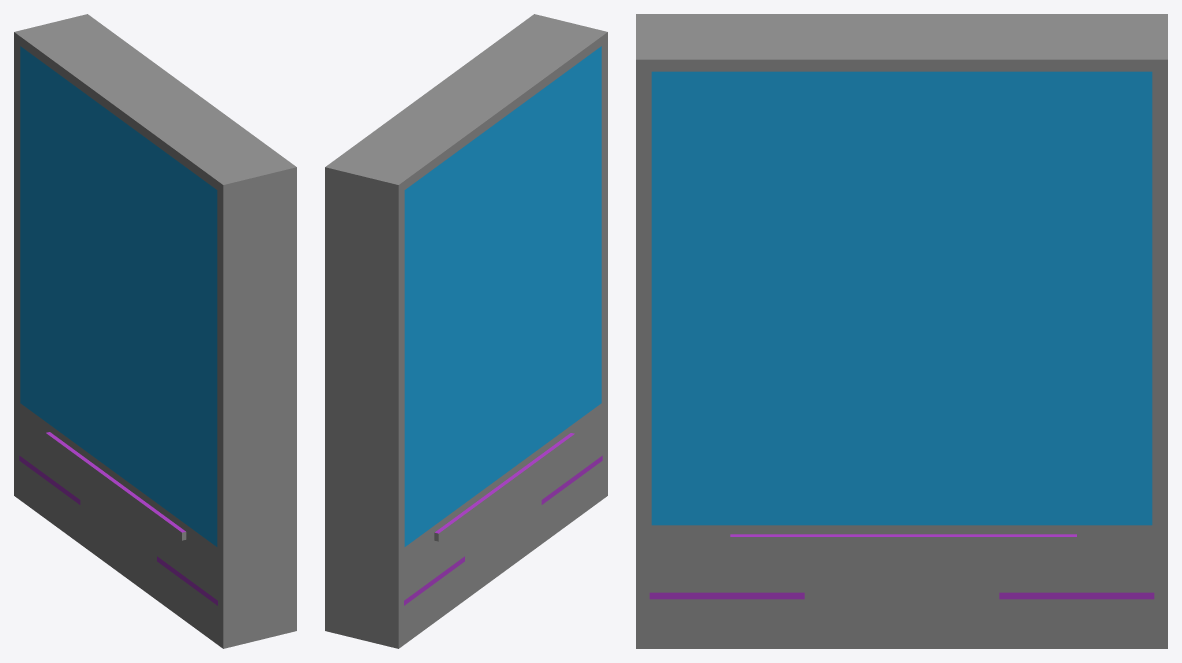
File: advertstand.fbx
3 renders of one model, left to right at view 1: azimuth 30°, elevation 25°; view 2: azimuth 150°, elevation 25°; view 3: azimuth 270°, elevation 25°, orthographic. The views are drawn at different scales.
Parts seen in each view (by area): view 1: advertstand; view 2: advertstand; view 3: advertstand.
Part boxes in pixels (box(x1,y1,x2,y2)): advertstand: box(14, 14, 296, 648); advertstand: box(325, 14, 607, 648); advertstand: box(636, 14, 1167, 648).
Bounding box in the file's own units: 0.5427 × 2.94 × 2.4.
3 materials, 1 textured.
